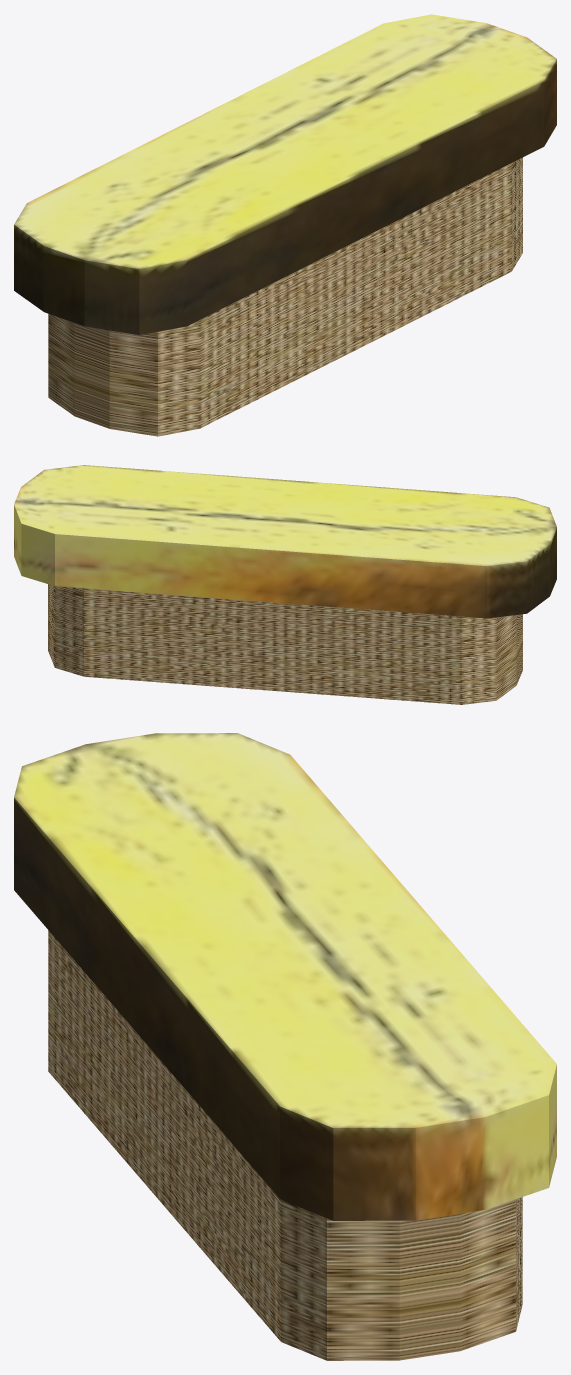
Rendered from tableitem4.glb.
3 views of the same model, one above another, from view 1: azimuth 30°, elevation 25°; view 2: azimuth 150°, elevation 25°; view 3: azimuth 270°, elevation 25° (orthographic). The views are drawn at different scales.
Bounding box in the file's own units: 0.2009 × 0.0611 × 0.1167.
Materials: 2 (2 with a texture image).
